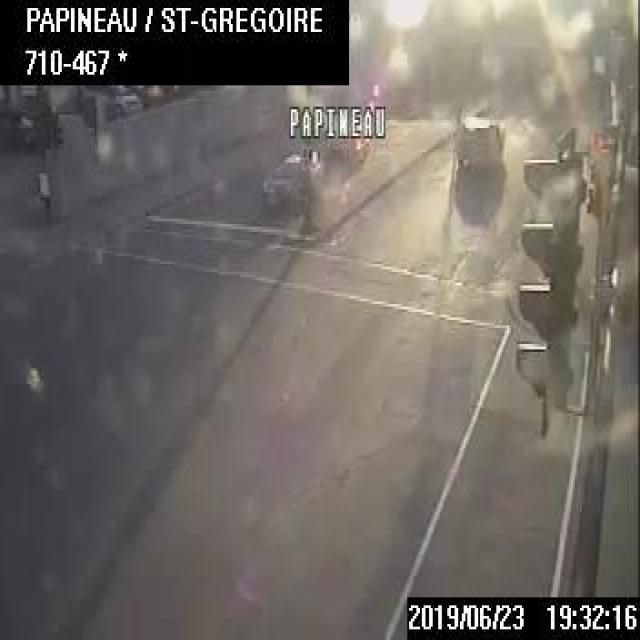vehicle: (258, 144, 322, 208), (456, 114, 504, 162), (79, 82, 138, 119)
